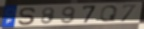7: (82, 5, 98, 24), (122, 3, 138, 22)
8: (40, 7, 56, 25)
9: (60, 6, 77, 24)
Q: (98, 5, 119, 22)
S: (17, 7, 37, 26)
